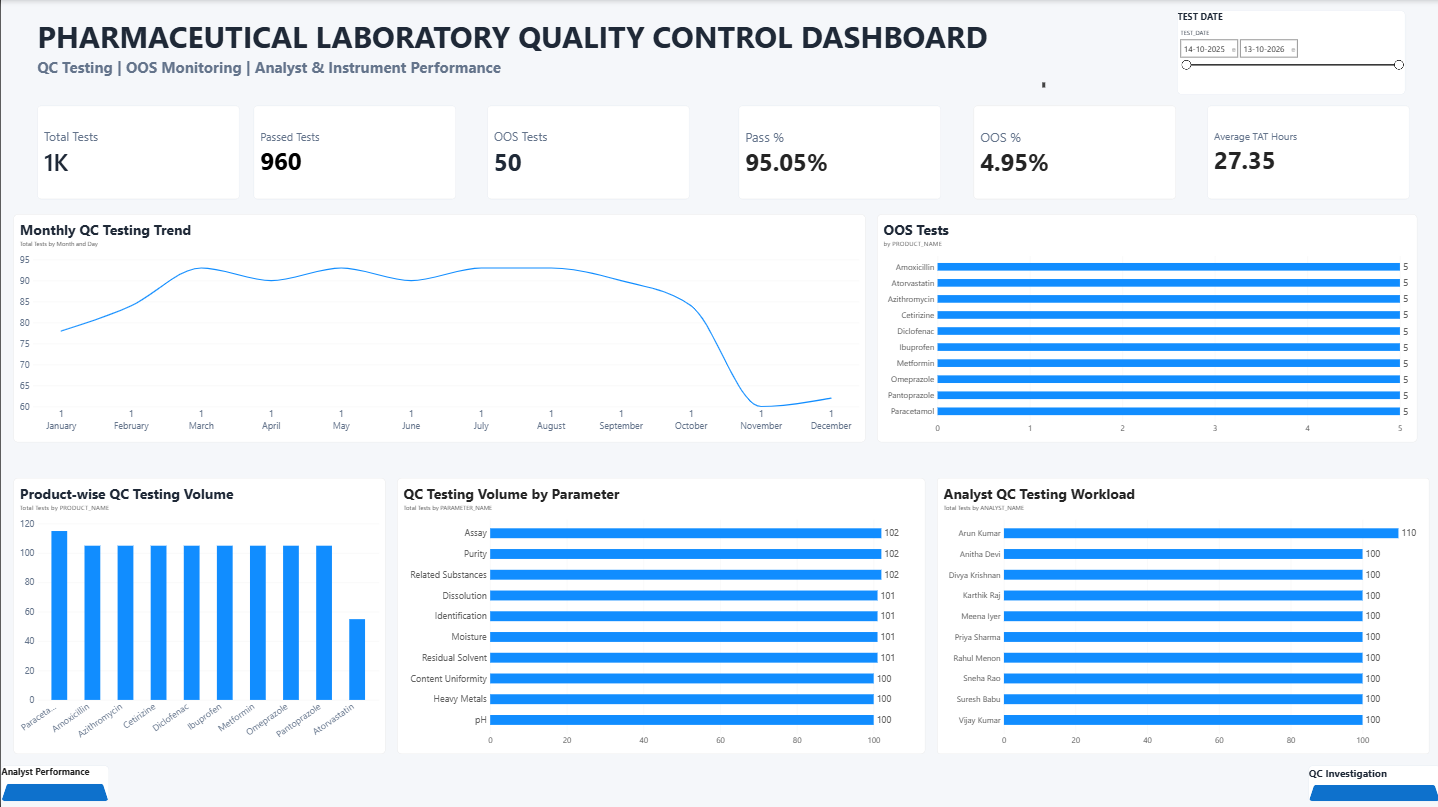

This screenshot's page, from the dashboard's own definition file:
{"tool":"powerbi","page":{"name":"QC Executive Dashboard","canvas":[3840,2160],"ordinal":0},"visuals":[{"type":"textbox","title":"PHARMACEUTICAL LABORATORY QUALITY CONTROL DASHBOARD","box":[96,48,2688,192],"z":0},{"type":"cardVisual","fields":{"Data":["qc_dashboard_data.Total Tests"]},"box":[96,288,540,250],"z":1},{"type":"cardVisual","fields":{"Data":["qc_dashboard_data.Passed Tests"]},"box":[672,288,540,250],"z":2},{"type":"cardVisual","fields":{"Data":["qc_dashboard_data.OOS Tests"]},"box":[1296,288,540,250],"z":3},{"type":"cardVisual","fields":{"Data":["qc_dashboard_data.Pass %"]},"box":[1968,288,540,250],"z":4},{"type":"cardVisual","fields":{"Data":["qc_dashboard_data.OOS %"]},"box":[2592,288,540,250],"z":5},{"type":"cardVisual","fields":{"Data":["qc_dashboard_data.Average TAT Hours"]},"box":[3216,288,540,250],"z":6},{"type":"lineChart","title":"Monthly QC Testing Trend","fields":{"Category":["qc_dashboard_data.TEST_MONTH.Variation.Date Hierarchy.Month","qc_dashboard_data.TEST_MONTH.Variation.Date Hierarchy.Day"],"Y":["qc_dashboard_data.Total Tests"]},"box":[32,576,2272,608],"z":7},{"type":"clusteredColumnChart","title":"Product-wise QC Testing Volume","fields":{"Category":["qc_dashboard_data.PRODUCT_NAME"],"Y":["qc_dashboard_data.Total Tests"]},"box":[32,1280,992,736],"z":8},{"type":"clusteredBarChart","fields":{"Category":["qc_dashboard_data.PRODUCT_NAME"],"Y":["qc_dashboard_data.OOS Tests"]},"box":[2336,576,1440,608],"z":9},{"type":"clusteredBarChart","title":"QC Testing Volume by Parameter","fields":{"Category":["qc_dashboard_data.PARAMETER_NAME"],"Y":["qc_dashboard_data.Total Tests"]},"box":[1056,1280,1408,736],"z":10},{"type":"clusteredBarChart","title":"Analyst QC Testing Workload","fields":{"Category":["qc_dashboard_data.ANALYST_NAME"],"Y":["qc_dashboard_data.Total Tests"]},"box":[2496,1280,1312,736],"z":11},{"type":"slicer","title":"TEST DATE","fields":{"Values":["qc_dashboard_data.TEST_DATE"]},"box":[3136,32,608,224],"z":12},{"type":"actionButton","title":"QC Investigation","box":[3488,2048,352,96],"z":16},{"type":"actionButton","title":"Analyst Performance","box":[0,2048,288,96],"z":17}]}

Visuals, with their boxes in screenshot pixels (x1, y1, x2, y2), scaled from the page's 3840x2160 canvas onto the 1438x807 screenshot:
"PHARMACEUTICAL LABORATORY QUALITY CONTROL DASHBOARD" textbox: 36/18/1043/90
cardVisual - qc_dashboard_data.Total Tests: 36/108/238/201
cardVisual - qc_dashboard_data.Passed Tests: 252/108/454/201
cardVisual - qc_dashboard_data.OOS Tests: 485/108/688/201
cardVisual - qc_dashboard_data.Pass %: 737/108/939/201
cardVisual - qc_dashboard_data.OOS %: 971/108/1173/201
cardVisual - qc_dashboard_data.Average TAT Hours: 1204/108/1407/201
"Monthly QC Testing Trend" lineChart: 12/215/863/442
"Product-wise QC Testing Volume" clusteredColumnChart: 12/478/383/753
clusteredBarChart - qc_dashboard_data.PRODUCT_NAME x qc_dashboard_data.OOS Tests: 875/215/1414/442
"QC Testing Volume by Parameter" clusteredBarChart: 395/478/923/753
"Analyst QC Testing Workload" clusteredBarChart: 935/478/1426/753
"TEST DATE" slicer: 1174/12/1402/96
"QC Investigation" actionButton: 1306/765/1437/801
"Analyst Performance" actionButton: 0/765/108/801
